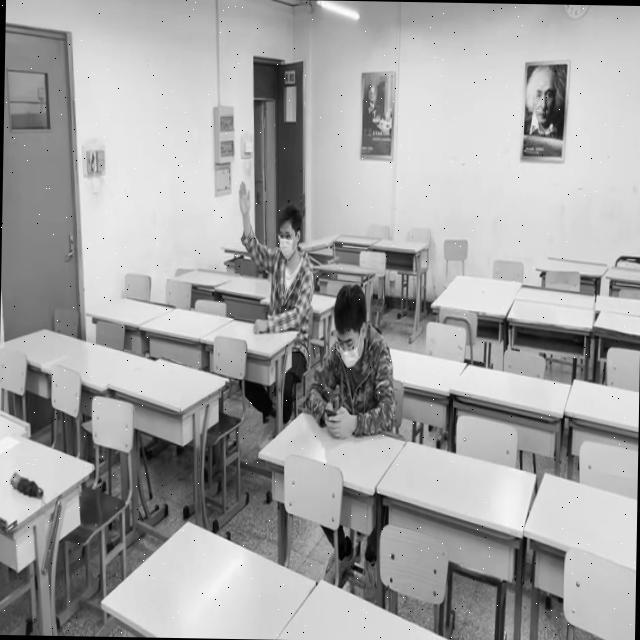phone: (314, 284, 396, 437)
study: (236, 181, 315, 334)
